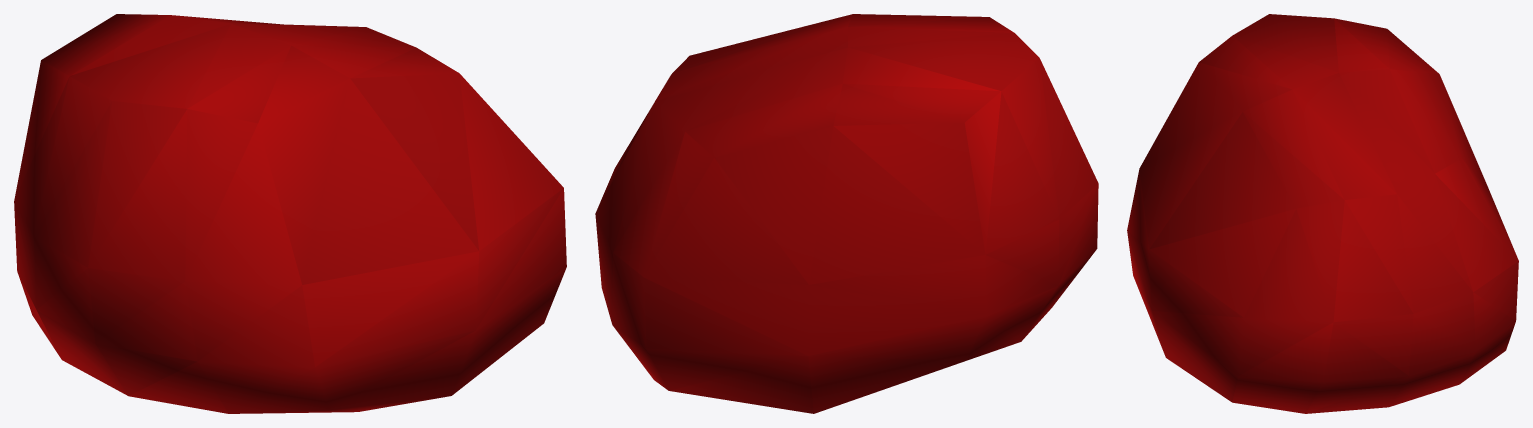
The model's file is geology-pebbles-smallsandchunk_v3.fbx.
3 views of the same model, side by side, from view 1: azimuth 30°, elevation 25°; view 2: azimuth 150°, elevation 25°; view 3: azimuth 270°, elevation 25° (orthographic). The views are drawn at different scales.
Parts seen in each view (by area): view 1: SmallSandChunk_v3; view 2: SmallSandChunk_v3; view 3: SmallSandChunk_v3.
Boxes of the visible parts, x1,y1,x2,y2 form: SmallSandChunk_v3: (14, 14, 566, 413); SmallSandChunk_v3: (595, 14, 1098, 413); SmallSandChunk_v3: (1127, 14, 1518, 413).
Bounding box in the file's own units: 2.91 × 2.1 × 2.64.
